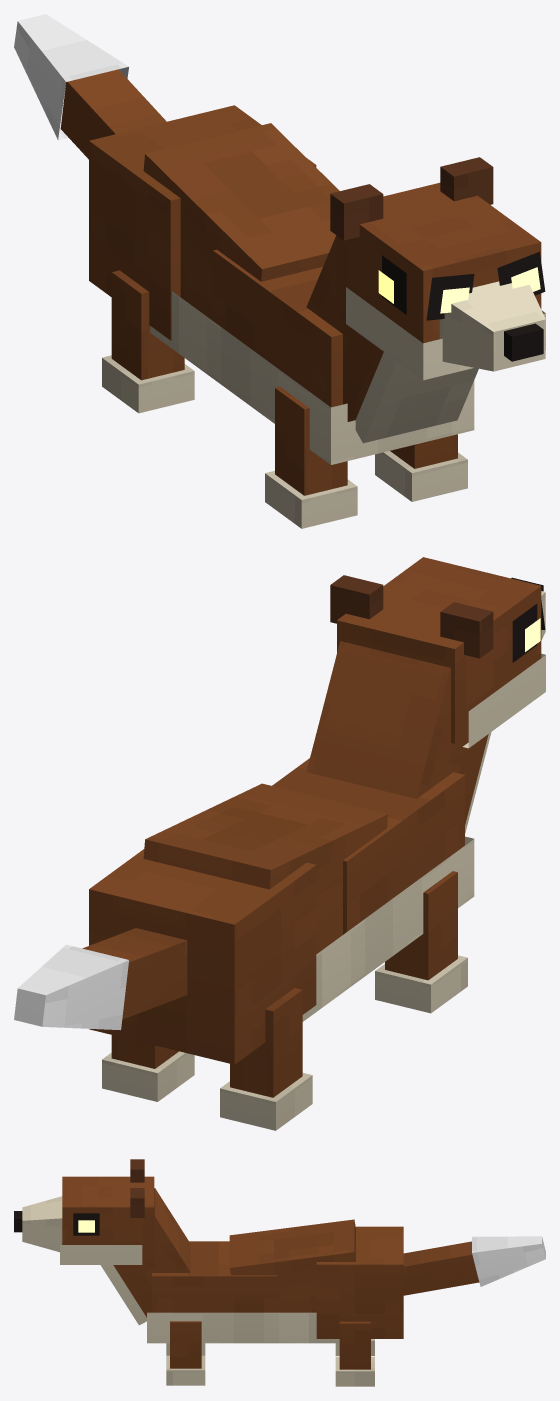
File: mob_stoat.glb
The picture shows the model from 3 angles, top to bottom: view 1: azimuth 30°, elevation 25°; view 2: azimuth 150°, elevation 25°; view 3: azimuth 270°, elevation 25°; orthographic projection. The views are drawn at different scales.
Visible parts, largest first — view 1: mob_stoat, sway_tail, leg_br, leg_fr, leg_fl, glow_eyes; view 2: mob_stoat, sway_tail, leg_br, leg_fr, leg_bl; view 3: mob_stoat, sway_tail, leg_bl, leg_fl.
Boxes of the visible parts, left/top/right/bottom form: mob_stoat: left=89, top=105, right=545, bottom=464; sway_tail: left=14, top=14, right=166, bottom=159; leg_br: left=102, top=270, right=194, bottom=413; leg_fr: left=265, top=386, right=357, bottom=528; leg_fl: left=375, top=434, right=467, bottom=501; glow_eyes: left=378, top=267, right=540, bottom=313; mob_stoat: left=89, top=557, right=545, bottom=1064; sway_tail: left=14, top=928, right=187, bottom=1030; leg_br: left=220, top=988, right=312, bottom=1130; leg_fr: left=375, top=871, right=467, bottom=1013; leg_bl: left=102, top=1035, right=194, bottom=1101; mob_stoat: left=14, top=1159, right=403, bottom=1343; sway_tail: left=403, top=1236, right=545, bottom=1295; leg_bl: left=335, top=1321, right=374, bottom=1386; leg_fl: left=166, top=1321, right=205, bottom=1385.
Size of the model in its own units: 0.221 by 0.4225 by 1.1.
Materials: 7 (4 with a texture image).
